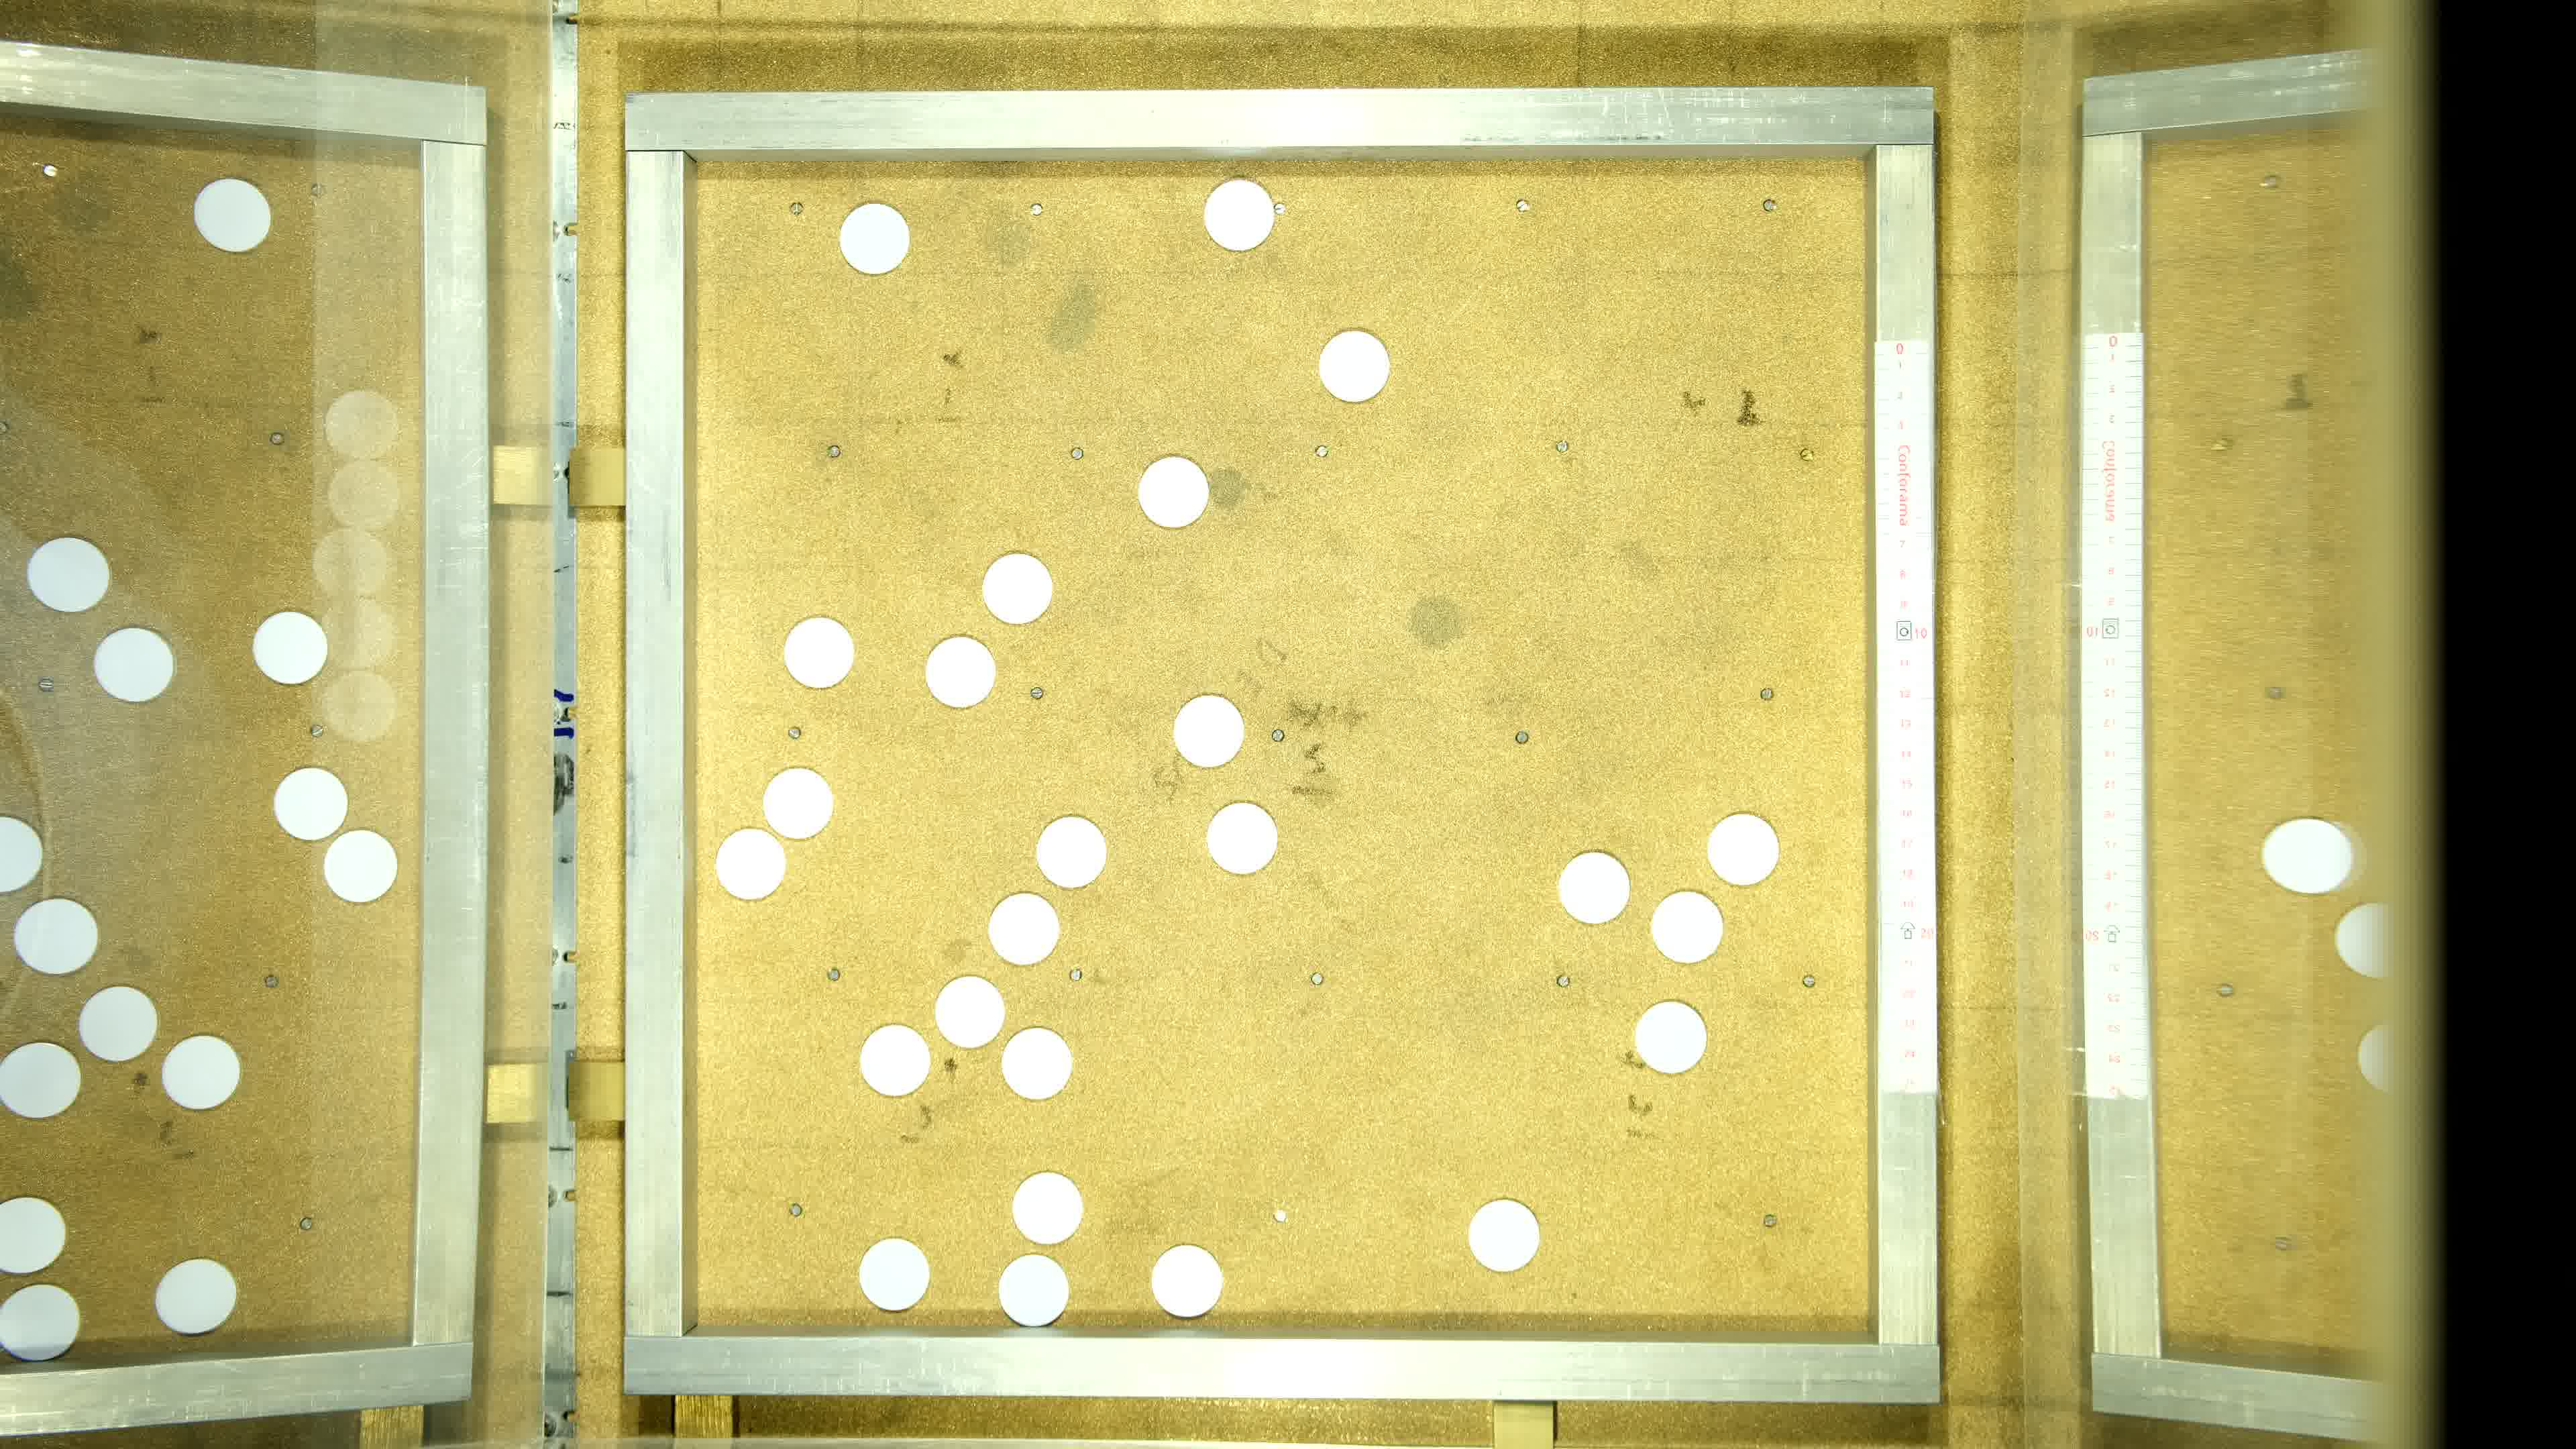pallet: (713, 824, 789, 901), (761, 766, 837, 842), (1035, 814, 1111, 890), (1169, 694, 1246, 770), (980, 550, 1056, 626), (1136, 455, 1212, 531), (1465, 1198, 1541, 1274), (1150, 1242, 1226, 1318), (996, 1253, 1072, 1329), (855, 1237, 931, 1313), (1205, 800, 1279, 876), (858, 1024, 932, 1100), (985, 890, 1060, 966), (922, 633, 996, 709), (782, 614, 856, 690), (1635, 1000, 1709, 1076), (1651, 886, 1725, 962), (1707, 812, 1782, 888), (1555, 851, 1629, 927), (1316, 327, 1391, 403), (1201, 177, 1276, 253), (839, 200, 913, 276), (1001, 1024, 1076, 1099), (932, 975, 1007, 1049), (1008, 1171, 1083, 1246)
